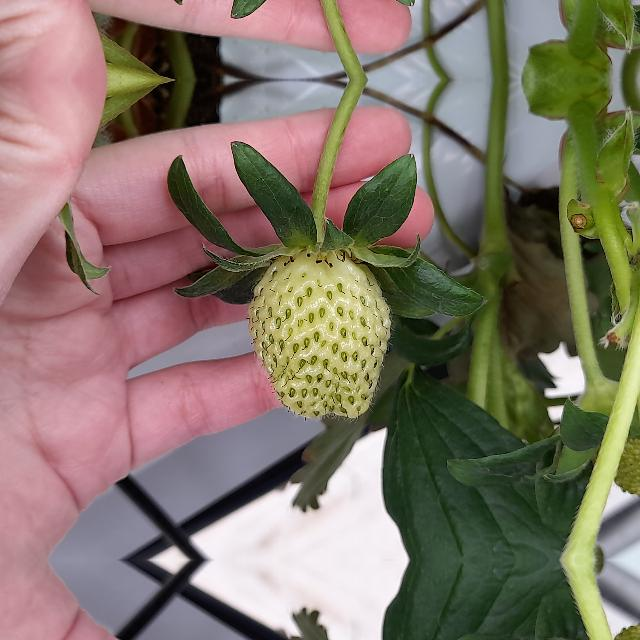Health_25: (248, 250, 390, 418)
